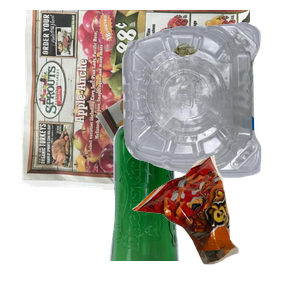glass: (107, 120, 278, 300)
paper: (18, 10, 258, 190)
plastic: (119, 20, 300, 190)
trash: (130, 153, 300, 300)
